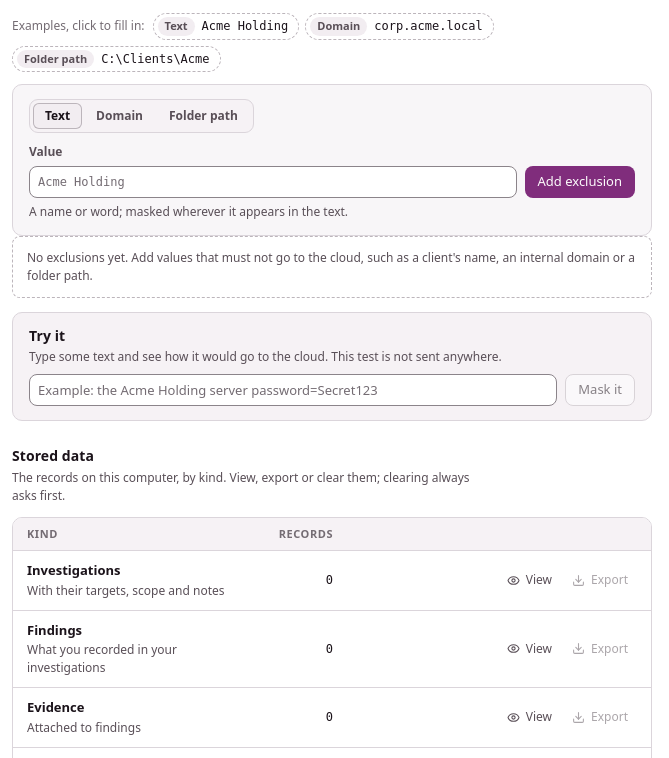
Test: Privacy › exclusions › shows how a text would leave, masked by Rust
(page scrolled)
Type "Acme Holding server" into the field labelled "Try it" at (293, 390), box [29,374,557,406]
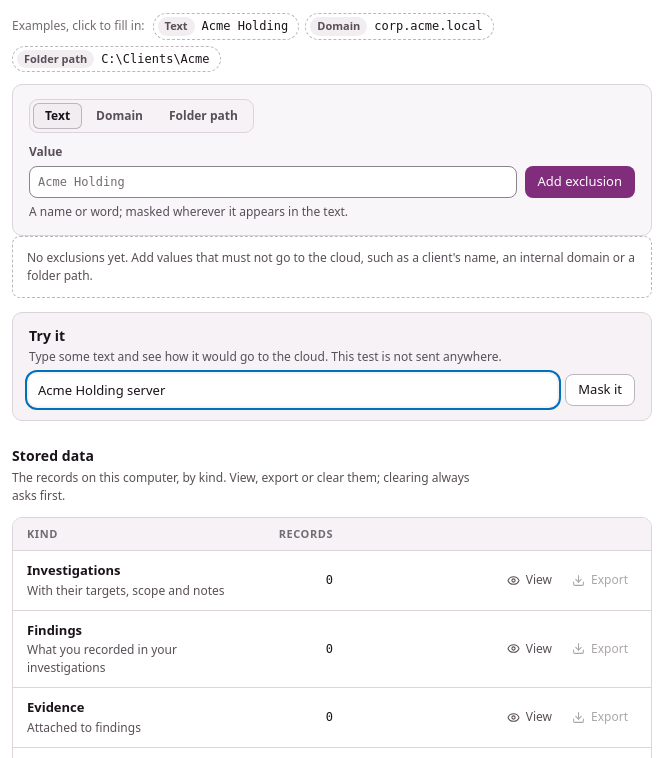
Click the button "Mask it" at (600, 390), box [565,374,635,406]
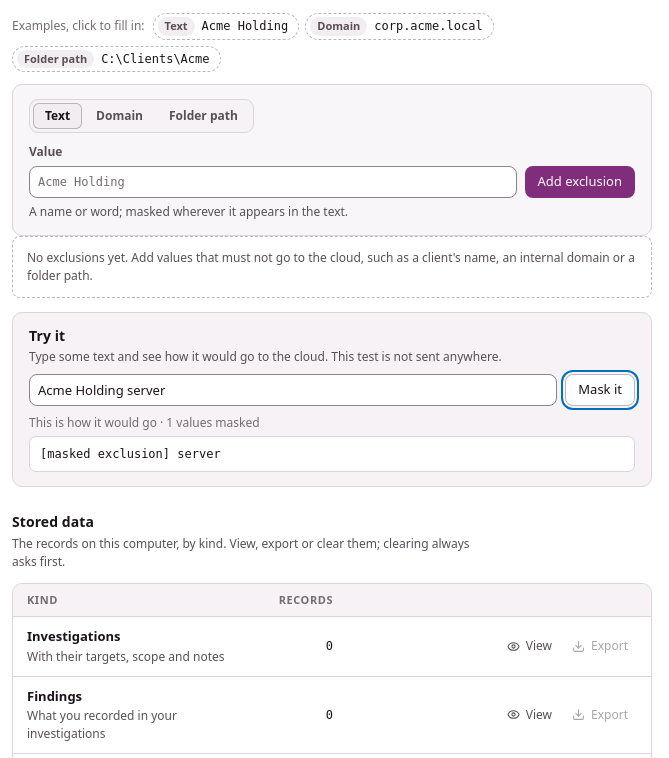
Expected: the message shows "This is how it would go · 1 values masked", [29,414,260,431]
Expected: the message shows "[masked exclusion] server", [40,447,221,461]
